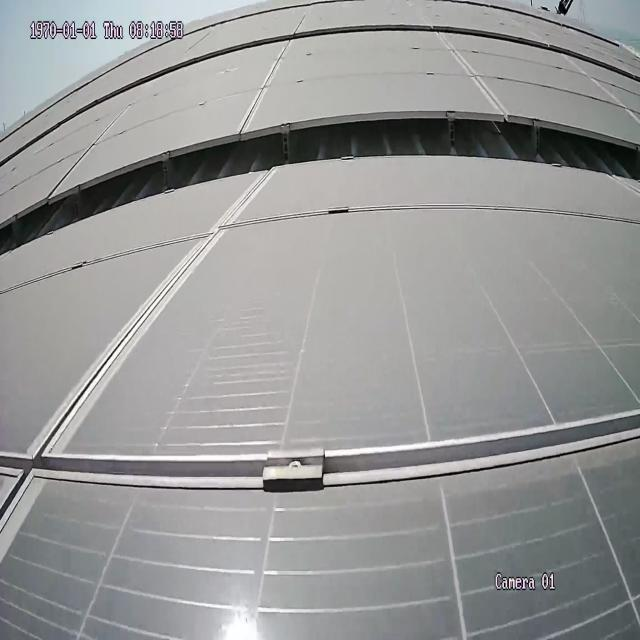interior panel: (0, 173, 639, 553), (55, 110, 125, 186), (439, 41, 507, 107), (236, 49, 291, 126)
outher panel: (0, 111, 640, 257)
